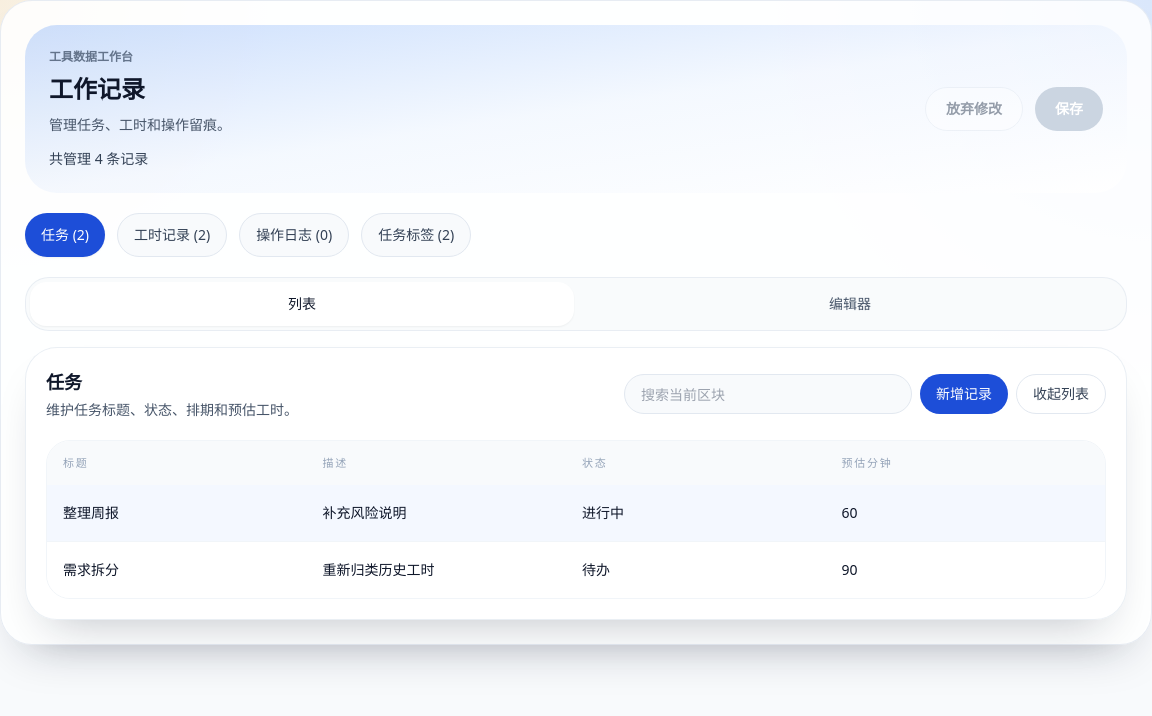
Scenario: ToolWorkspace › 移除画布内保存到草稿按钮，仅保留直白的保存按钮
Later steps or results of the test are not shown.
Step 1. Click the button "工时记录 (2)" → (172, 235), box [117,213,227,257]
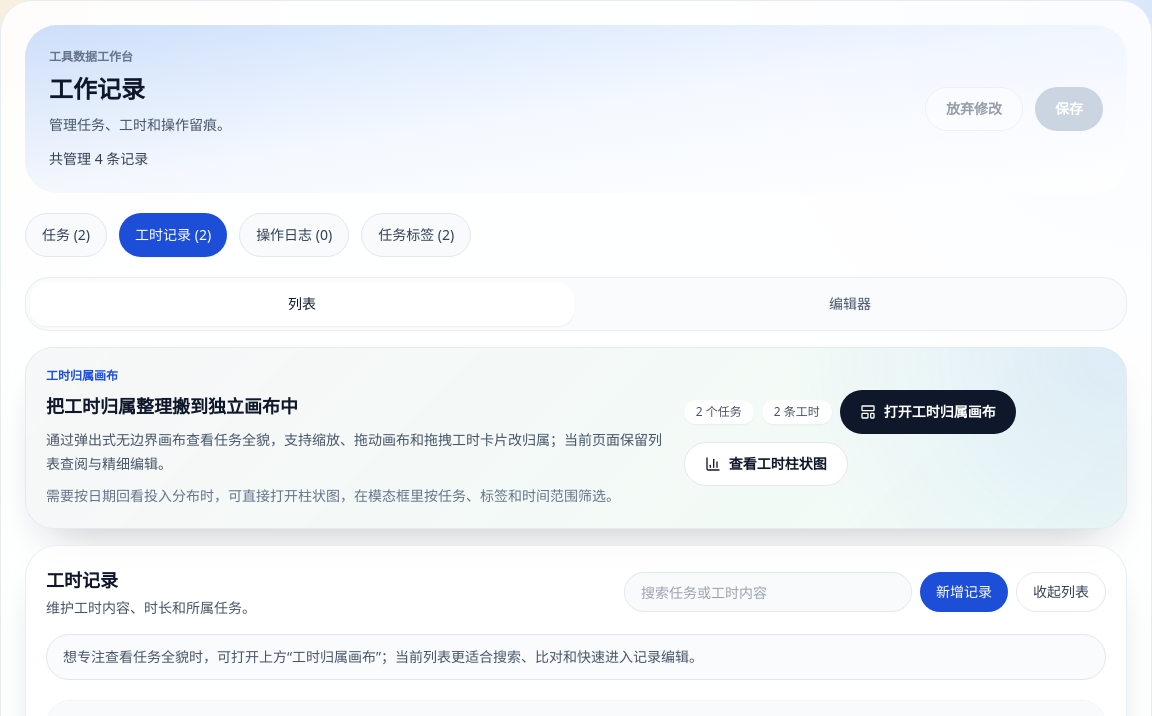
Step 2. Click the button "打开工时归属画布" → (928, 412), box [840,390,1016,434]
(page scrolled)
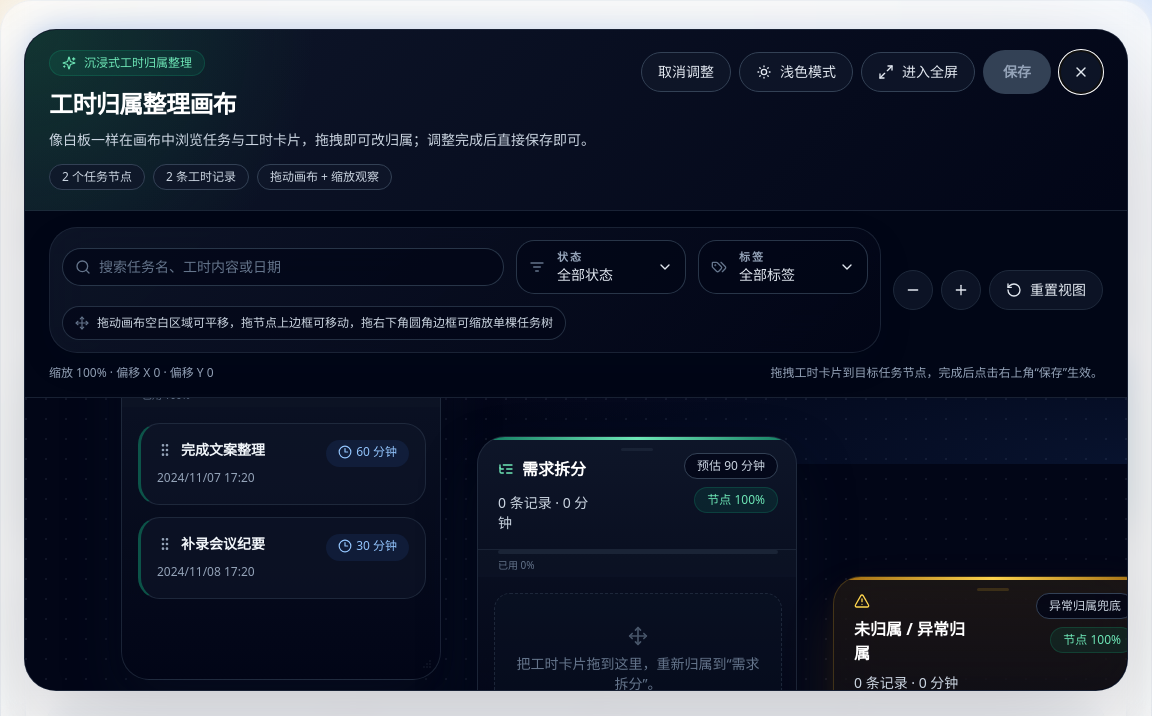
Check: the text "补录会议纪要" is shown, box [181,534,265,554]
